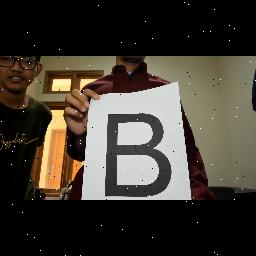b: (100, 108, 178, 200)
